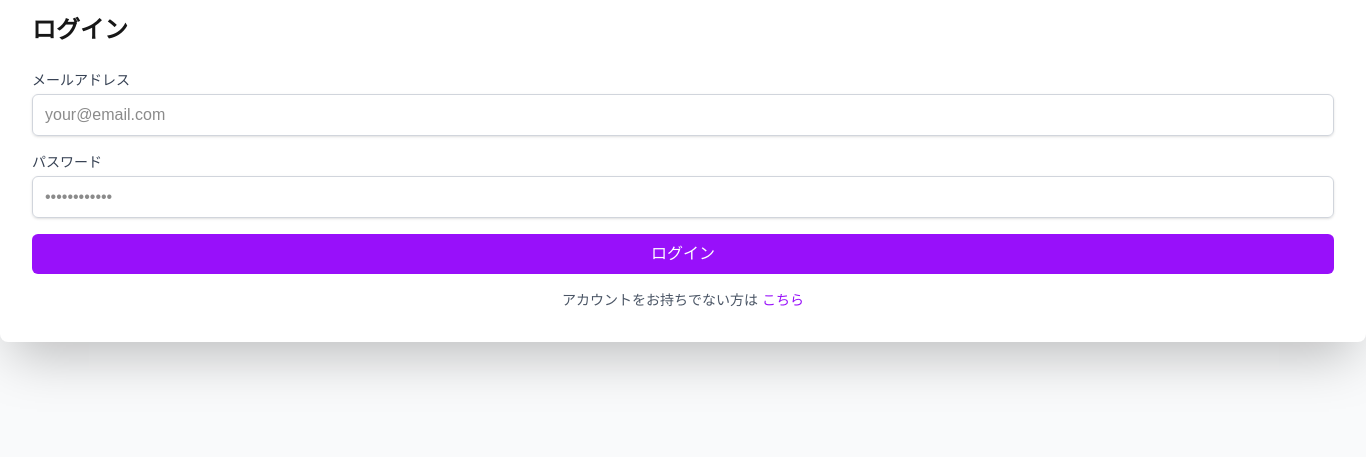
Scenario: LoginPageClient › フォーム送信 › エラー時にエラーメッセージが表示される
Type "wrong@example.com" into the field labelled "メールアドレス".
click(683, 115); type("wrong@example.com")  # box [32,94,1334,136]
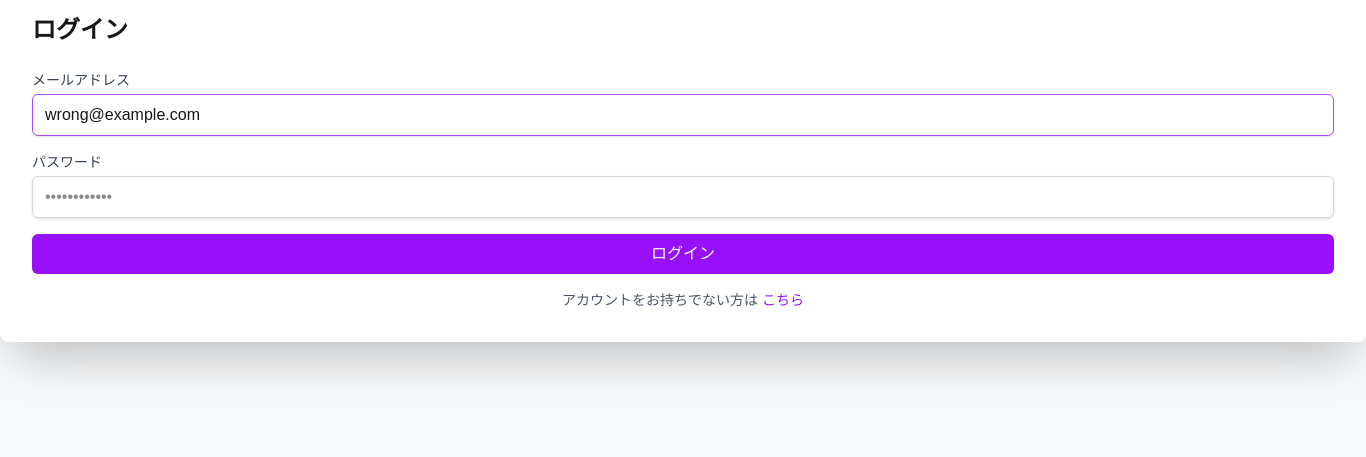
Type "WrongPassword123!" into the password field labelled "パスワード".
click(683, 197); type("WrongPassword123!")  # box [32,176,1334,218]
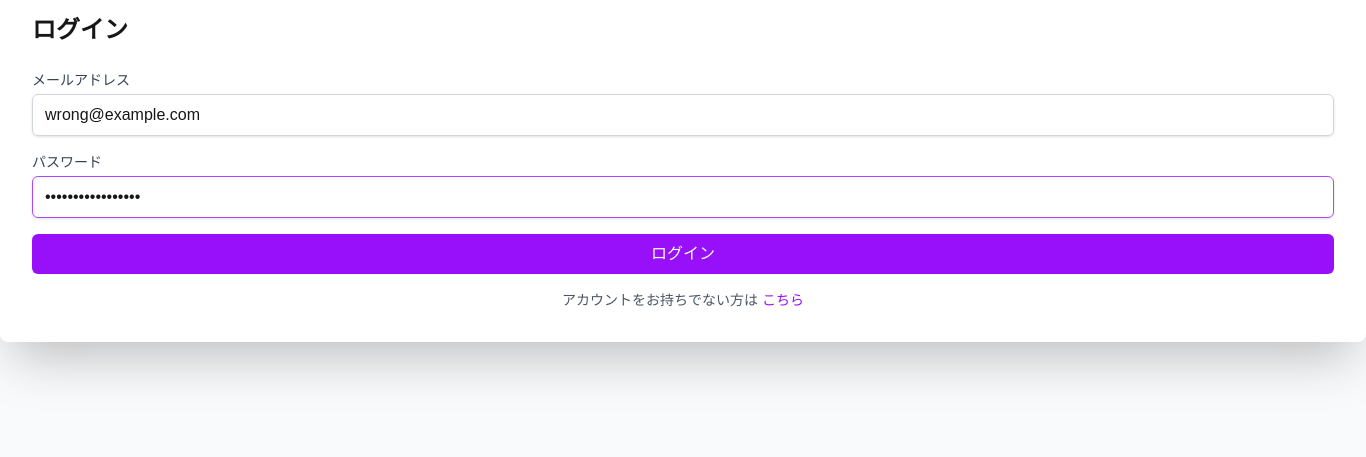
Click the button "ログイン".
click(683, 254)  # box [32,234,1334,274]
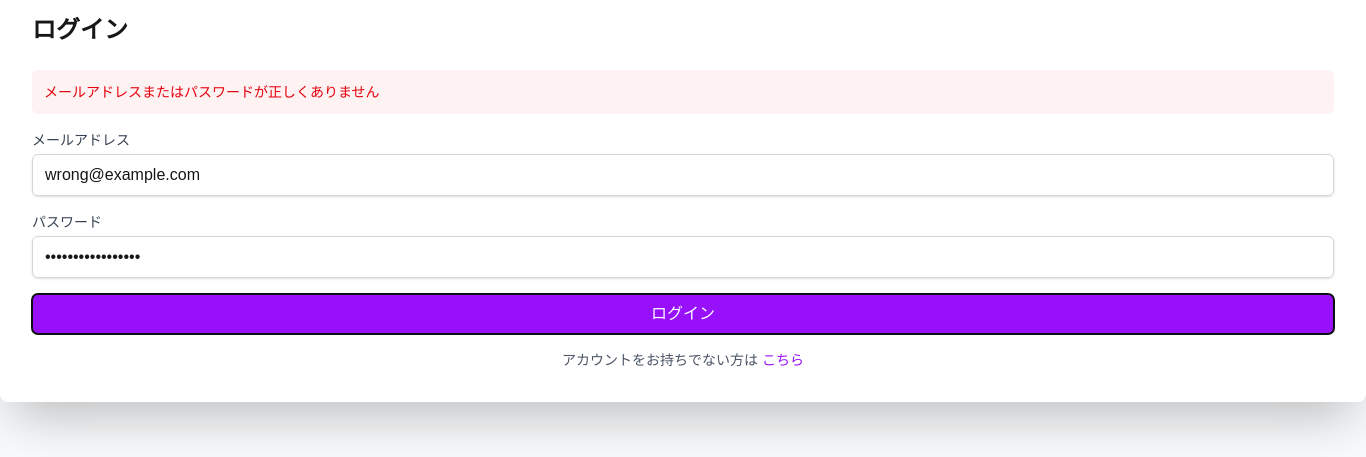
Result: the text "メールアドレスまたはパスワードが正しくありません" is shown at [32,70,1334,114]
